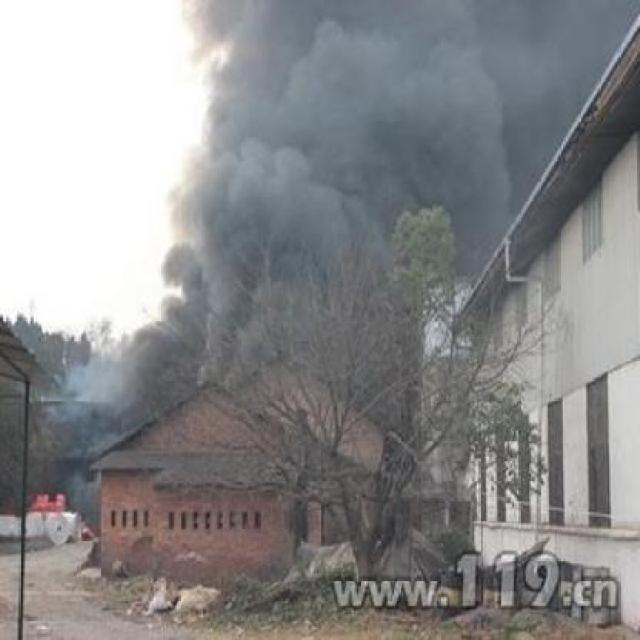Smoke: (161, 6, 604, 355)
